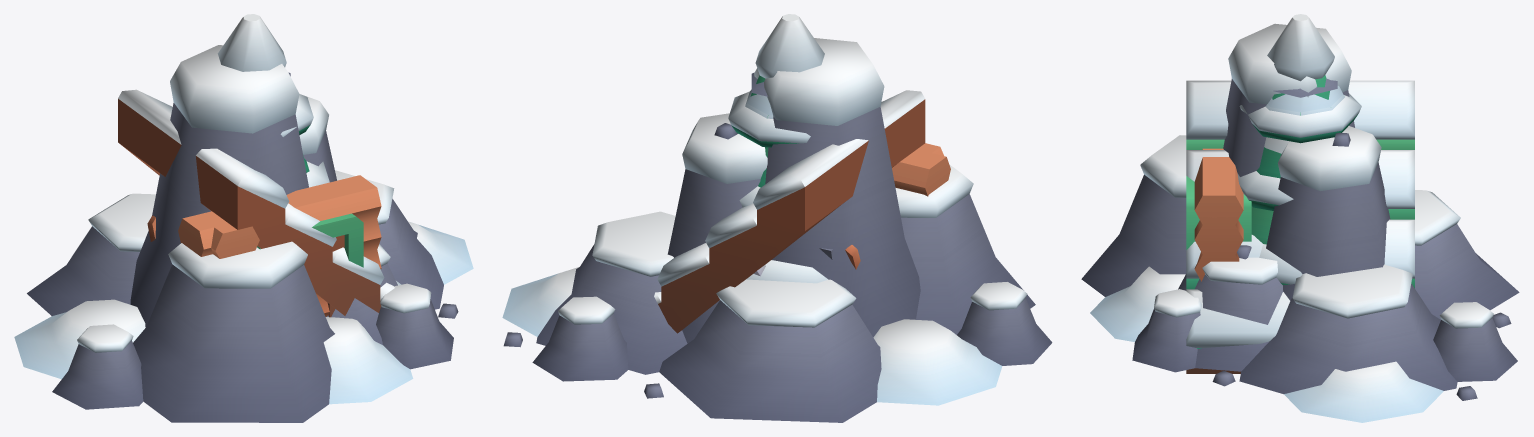
File: holiday.glb
3 renders of one model, left to right at view 1: azimuth 30°, elevation 25°; view 2: azimuth 150°, elevation 25°; view 3: azimuth 270°, elevation 25°, orthographic. The views are drawn at different scales.
Visible parts, largest first — view 1: rocks-large~0, cabin-roof-snow~0, cabin-wall~0, tree-snow-b~0, cabin-corner-logs~0, cabin-door-rotate~mesh; view 2: rocks-large~0, cabin-roof-snow~0, tree-snow-b~0, cabin-corner-logs~0; view 3: rocks-large~0, cabin-roof-snow~0, tree-snow-b~0, cabin-wall~0, tree-snow-a~0, cabin-door-rotate~mesh, tree-snow-c~0, lantern~0.
Boxes of the visible parts, left/top/right/bottom form: rocks-large~0: left=14, top=45, right=473, bottom=422; cabin-roof-snow~0: left=118, top=89, right=401, bottom=315; cabin-wall~0: left=286, top=175, right=381, bottom=316; tree-snow-b~0: left=217, top=14, right=329, bottom=187; cabin-corner-logs~0: left=178, top=211, right=259, bottom=258; cabin-door-rotate~mesh: left=257, top=188, right=381, bottom=267; rocks-large~0: left=502, top=38, right=1052, bottom=422; cabin-roof-snow~0: left=654, top=90, right=925, bottom=333; tree-snow-b~0: left=728, top=14, right=827, bottom=283; cabin-corner-logs~0: left=895, top=143, right=950, bottom=196; rocks-large~0: left=1081, top=23, right=1519, bottom=422; cabin-roof-snow~0: left=1186, top=80, right=1414, bottom=373; tree-snow-b~0: left=1237, top=14, right=1361, bottom=284; cabin-wall~0: left=1194, top=148, right=1243, bottom=281; tree-snow-a~0: left=1249, top=86, right=1343, bottom=284; cabin-door-rotate~mesh: left=1186, top=171, right=1251, bottom=257; tree-snow-c~0: left=1251, top=94, right=1357, bottom=206; lantern~0: left=1273, top=78, right=1337, bottom=97.
Size of the model in its own units: 3.14 by 2.11 by 2.69.
Materials: 1 (1 with a texture image).
